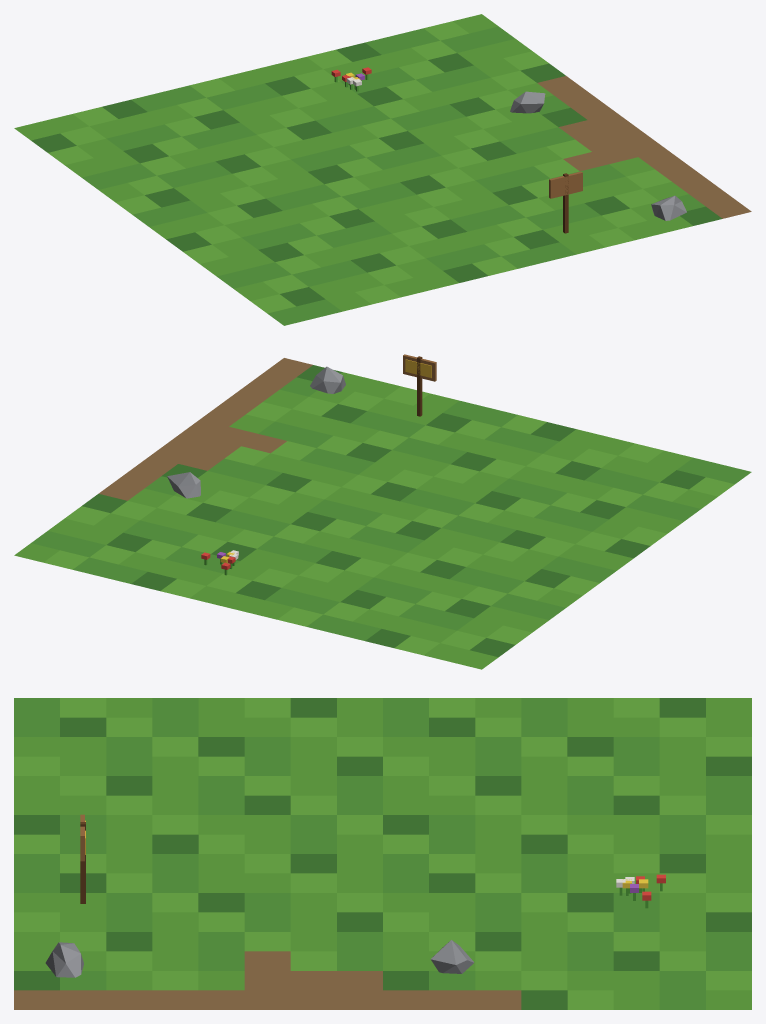
Rendered from chunk_5_8.glb.
The picture shows the model from 3 angles, top to bottom: view 1: azimuth 30°, elevation 25°; view 2: azimuth 150°, elevation 25°; view 3: azimuth 270°, elevation 25°; orthographic projection. The views are drawn at different scales.
Visible parts, largest first — view 1: chunk_5_8; view 2: chunk_5_8; view 3: chunk_5_8.
Boxes of the visible parts, x1=… form: chunk_5_8: x1=14, y1=14, x2=751, y2=325; chunk_5_8: x1=14, y1=354, x2=751, y2=669; chunk_5_8: x1=14, y1=698, x2=751, y2=1009.
Size of the model in its own units: 16 by 2.3 by 16.
